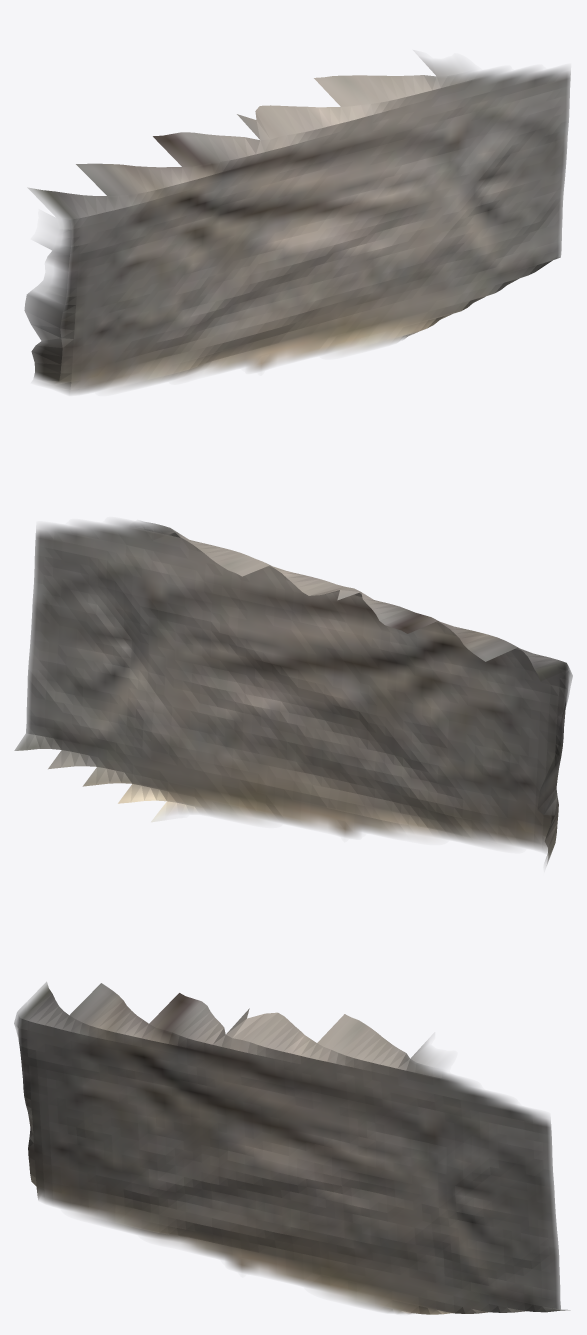
Rendered from exhibit.glb.
The picture shows the model from 3 angles, top to bottom: view 1: azimuth 30°, elevation 25°; view 2: azimuth 150°, elevation 25°; view 3: azimuth 330°, elevation 25°; orthographic projection.
Visible parts, largest first — view 1: observed-front-depth-card; view 2: observed-front-depth-card; view 3: observed-front-depth-card.
Boxes of the visible parts, x1,y1,x2,y2 form: observed-front-depth-card: (24, 57, 570, 394); observed-front-depth-card: (14, 521, 572, 865); observed-front-depth-card: (14, 982, 569, 1314).
Bounding box in the file's own units: 1.26 × 0.7504 × 0.1673.
1 material, 1 textured.
